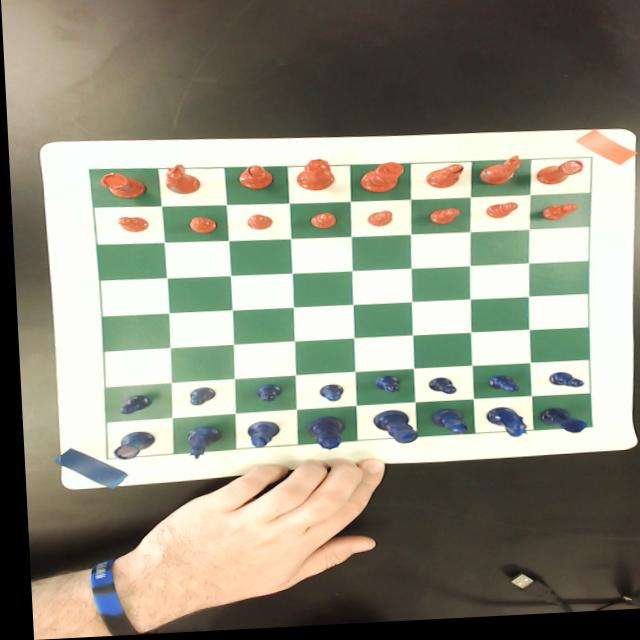B: (241, 422, 277, 452), (426, 413, 463, 441)
K: (367, 413, 412, 449)
N: (480, 411, 523, 445), (178, 428, 219, 461)
P: (541, 376, 581, 396), (112, 395, 147, 417), (481, 380, 516, 400), (181, 389, 213, 409), (421, 381, 452, 400), (250, 386, 279, 406), (312, 387, 341, 406), (369, 378, 396, 398)
Q: (301, 419, 340, 454)
R: (535, 412, 582, 441), (106, 432, 151, 461)
b: (421, 168, 462, 194), (234, 168, 271, 193)
cb: (86, 164, 589, 460)
k: (355, 166, 402, 198)
n: (476, 159, 521, 191), (161, 164, 197, 198)
p: (536, 209, 577, 227), (482, 207, 517, 225), (424, 213, 459, 230), (305, 214, 336, 233), (113, 217, 146, 234), (184, 218, 214, 236), (242, 216, 271, 234), (363, 214, 392, 232)
q: (292, 161, 331, 194)
r: (96, 172, 144, 202), (534, 166, 583, 192)
